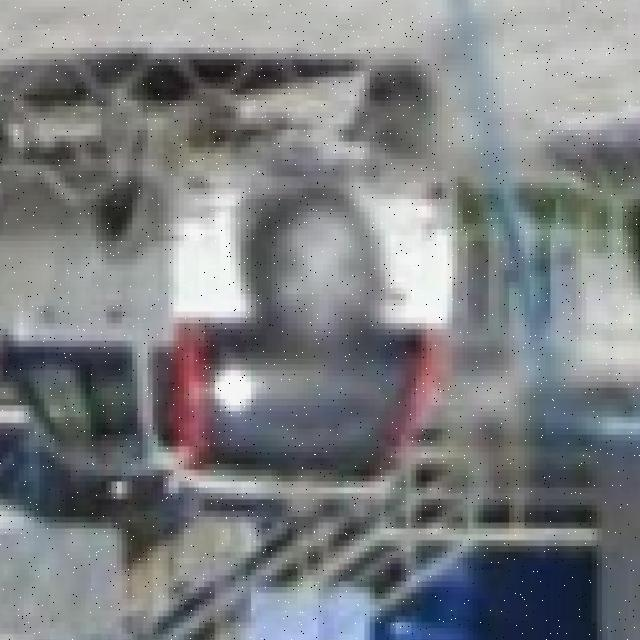car: (0, 52, 456, 503)
